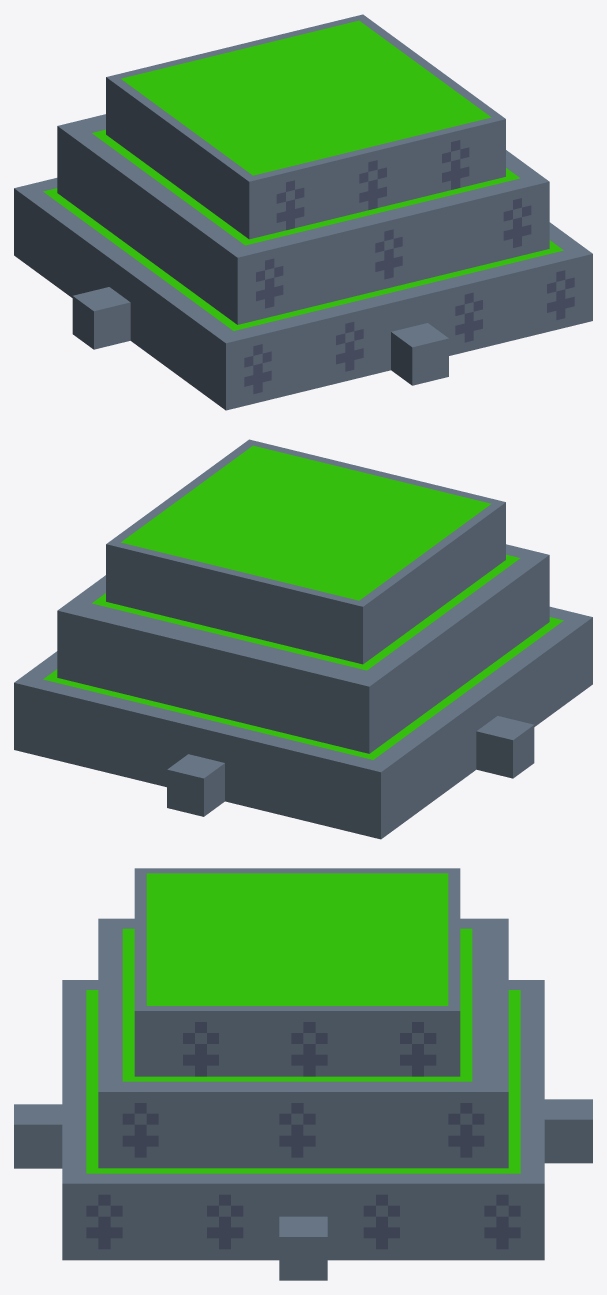
Rendered from shadow-9.obj.
The picture shows the model from 3 angles, top to bottom: view 1: azimuth 30°, elevation 25°; view 2: azimuth 150°, elevation 25°; view 3: azimuth 270°, elevation 25°; orthographic projection. The views are drawn at different scales.
Size of the model in its own units: 4.8 by 2 by 4.8.
1 material, 1 textured.
